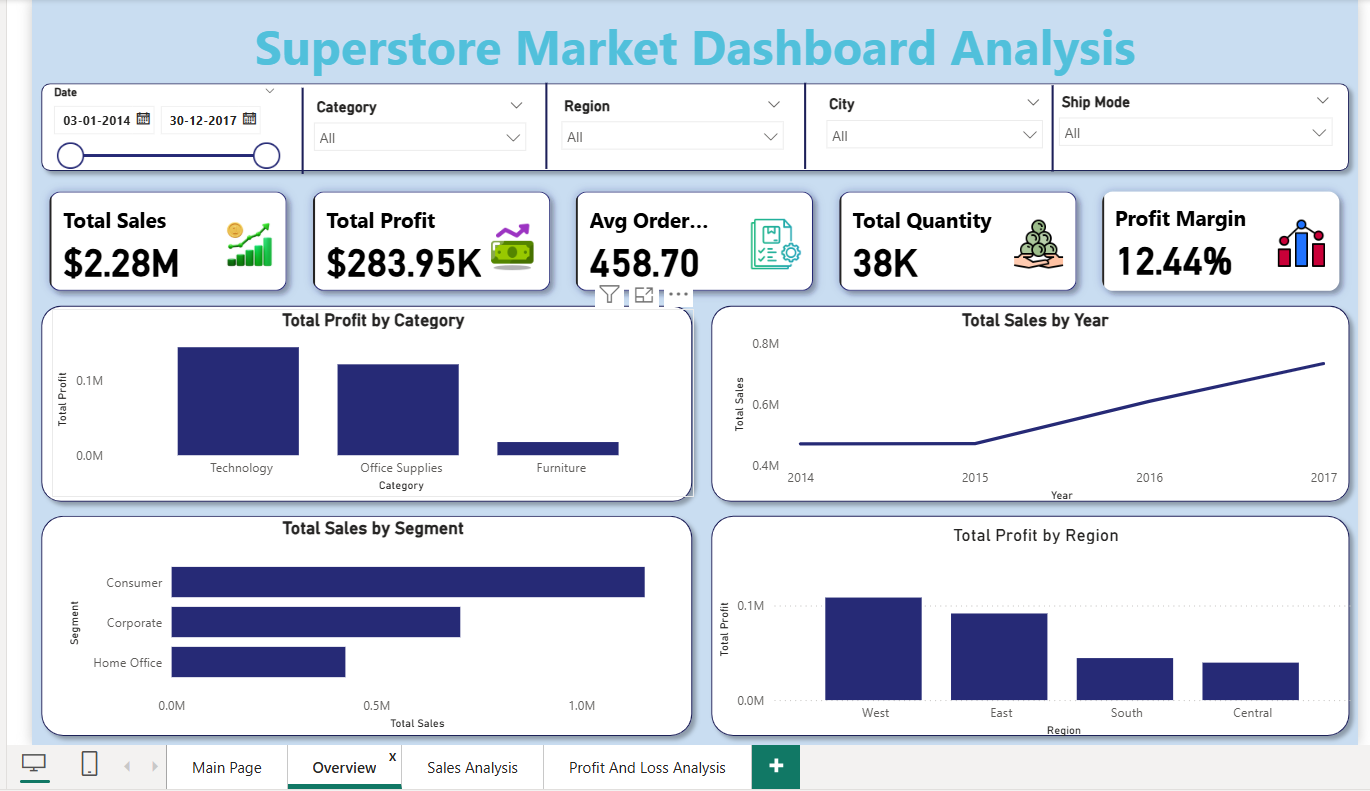

This screenshot's page, from the dashboard's own definition file:
{"tool":"powerbi","page":{"name":"Overview","canvas":[1280,720],"ordinal":1},"visuals":[{"type":"shape","box":[0,0,1280.3,89.2],"z":0},{"type":"shape","box":[0,72.4,1280,102.5],"z":1000},{"type":"shape","box":[0,489.9,646.3,230.5],"z":2000},{"type":"slicer","fields":{"Values":["Date_Table.Date"]},"box":[8.2,78.2,238.8,90.6],"z":3000},{"type":"cardVisual","fields":{"Data":["Date_Table.Total Sales","Date_Table.Total Profit","Date_Table.Avg Order Value","Date_Table.Total Quantity","Date_Table.Profit Margin"]},"box":[0,168.8,1280.3,130.4],"z":4000},{"type":"shape","box":[0,286.8,646.3,207.2],"z":5000},{"type":"shape","box":[646.3,286.8,634,207.2],"z":6000},{"type":"barChart","fields":{"Y":["Date_Table.Total Sales"],"Category":["final_output.Segment"]},"box":[30.2,500.7,598.4,209.9],"z":7000},{"type":"lineChart","fields":{"Category":["Date_Table.Year"],"Y":["Date_Table.Total Sales"]},"box":[672.4,299.1,592.8,190.7],"z":8000},{"type":"slicer","fields":{"Values":["final_output.Category"]},"box":[262.1,90.6,225,67.2],"z":9000},{"type":"slicer","fields":{"Values":["final_output.Region"]},"box":[500.9,89.2,234.6,64.5],"z":10000},{"type":"slicer","fields":{"Values":["final_output.City"]},"box":[756.1,87.8,229.2,65.9],"z":11000},{"type":"shape","box":[646.3,489.9,634,230.5],"z":12000},{"type":"clusteredColumnChart","fields":{"Category":["final_output.Region"],"Y":["Date_Table.Total Profit"]},"box":[657.3,506.3,623,209.9],"z":13000},{"type":"clusteredColumnChart","fields":{"Category":["final_output.Category"],"Y":["Date_Table.Total Profit"]},"box":[19.2,299.1,620.2,181.1],"z":14000},{"type":"slicer","fields":{"Values":["final_output.Ship Mode"]},"box":[981.1,85.1,284,68.6],"z":15000},{"type":"shape","box":[111,85.7,300.4,83.2],"z":15001},{"type":"shape","box":[834.9,83.2,300.4,83.2],"z":15002},{"type":"shape","box":[596,80.8,300.4,83.2],"z":15003},{"type":"shape","box":[346.2,80.8,300.4,83.2],"z":15004}]}

Visuals, with their boxes on the page's 1280x720 design canvas (x1, y1, x2, y2). These are canvas units, not pixel positions in the 1370x791 screenshot, which may show the page scaled, cropped or inside an application window:
shape: 0, 0, 1280, 89
shape: 0, 72, 1280, 175
shape: 0, 490, 646, 720
slicer - Date_Table.Date: 8, 78, 247, 169
cardVisual - Date_Table.Total Sales x Date_Table.Total Profit: 0, 169, 1280, 299
shape: 0, 287, 646, 494
shape: 646, 287, 1280, 494
barChart - Date_Table.Total Sales x final_output.Segment: 30, 501, 629, 711
lineChart - Date_Table.Year x Date_Table.Total Sales: 672, 299, 1265, 490
slicer - final_output.Category: 262, 91, 487, 158
slicer - final_output.Region: 501, 89, 736, 154
slicer - final_output.City: 756, 88, 985, 154
shape: 646, 490, 1280, 720
clusteredColumnChart - final_output.Region x Date_Table.Total Profit: 657, 506, 1280, 716
clusteredColumnChart - final_output.Category x Date_Table.Total Profit: 19, 299, 639, 480
slicer - final_output.Ship Mode: 981, 85, 1265, 154
shape: 111, 86, 411, 169
shape: 835, 83, 1135, 166
shape: 596, 81, 896, 164
shape: 346, 81, 647, 164
